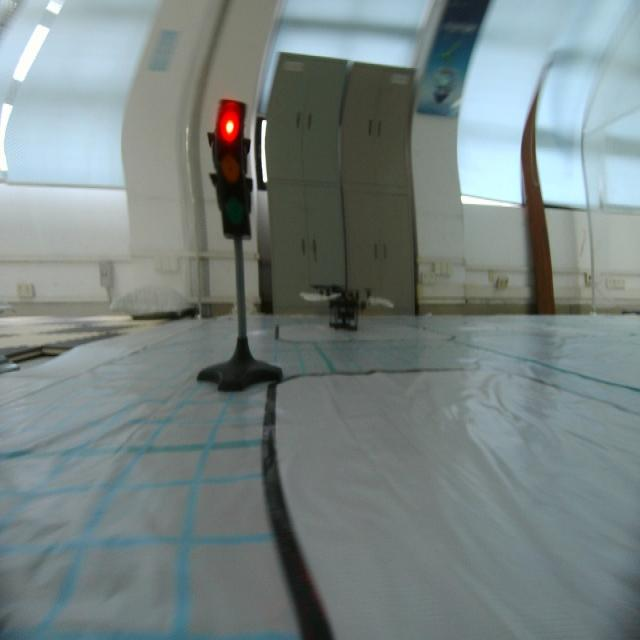red: (208, 88, 260, 247)
